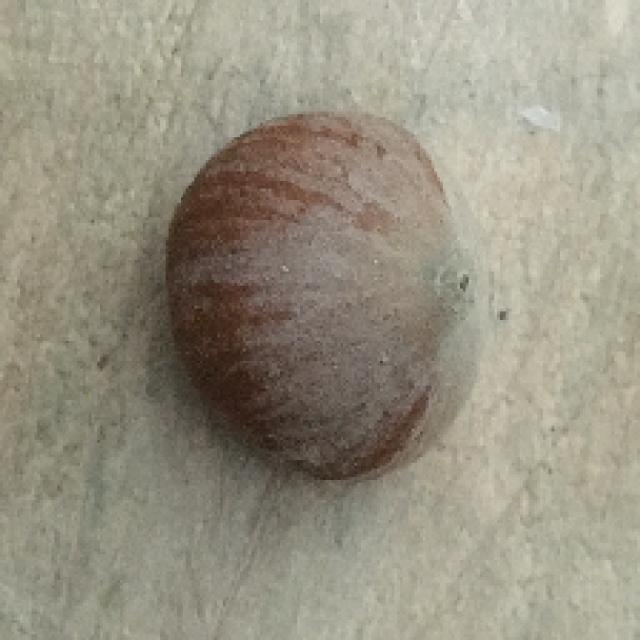qualityHazelnut: (163, 99, 491, 496)
